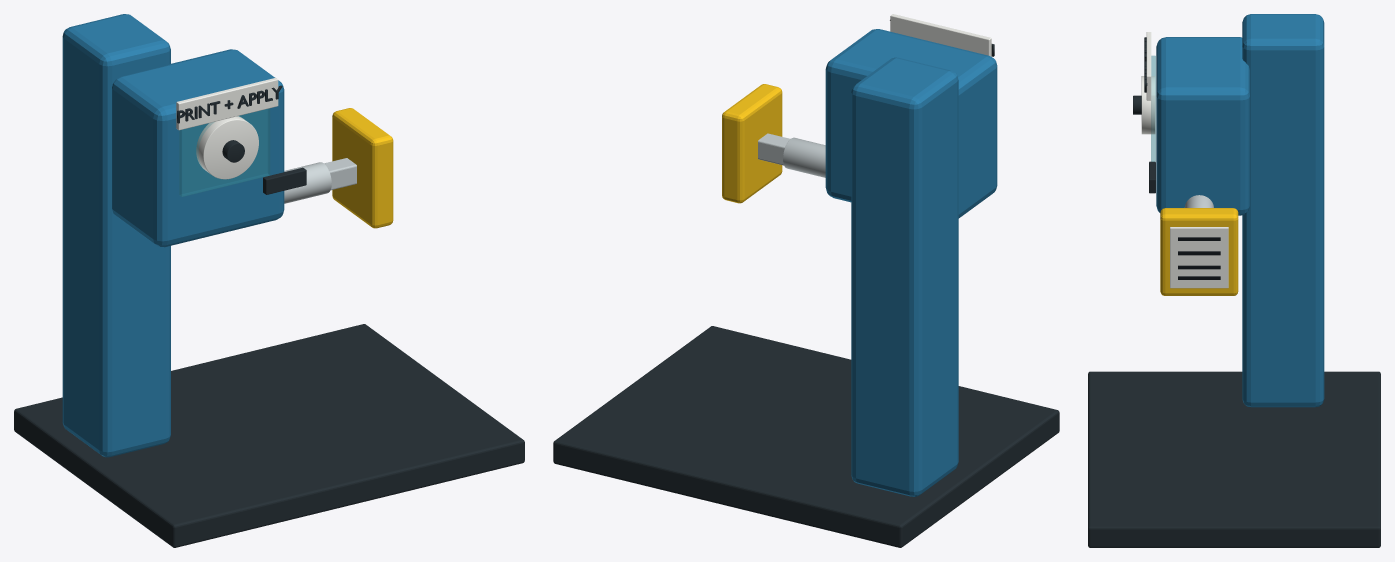
File: label_printer.glb
3 views of the same model, side by side, from view 1: azimuth 30°, elevation 25°; view 2: azimuth 150°, elevation 25°; view 3: azimuth 270°, elevation 25° (orthographic). The views are drawn at different scales.
Parts seen in each view (by area): view 1: LABELER_BASE, LABELER_PEDESTAL, PRINT_APPLY_ENCLOSURE, APPLICATOR_PAD, LABEL_ROLL_WINDOW, KIN_label_roll, LABELER_NAMEPLATE, TAMP_AIR_CYLINDER, LABEL_EXIT_SLOT, LABELER_NAME, TAMP_SLIDE; view 2: LABELER_BASE, LABELER_PEDESTAL, PRINT_APPLY_ENCLOSURE, APPLICATOR_PAD, LABELER_NAMEPLATE, TAMP_AIR_CYLINDER, TAMP_SLIDE; view 3: LABELER_BASE, LABELER_PEDESTAL, PRINT_APPLY_ENCLOSURE, APPLICATOR_PAD, LABEL_ON_TAMP, KIN_label_roll, LABEL_ROLL_WINDOW, LABELER_NAMEPLATE.
Boxes of the visible parts, box(x1,y1,x2,y2) form: LABELER_BASE: box(14, 324, 524, 547); LABELER_PEDESTAL: box(62, 14, 170, 457); PRINT_APPLY_ENCLOSURE: box(112, 49, 284, 247); APPLICATOR_PAD: box(332, 108, 393, 228); LABEL_ROLL_WINDOW: box(179, 108, 270, 196); KIN_label_roll: box(196, 116, 258, 179); LABELER_NAMEPLATE: box(176, 77, 278, 130); TAMP_AIR_CYLINDER: box(284, 162, 331, 203); LABEL_EXIT_SLOT: box(263, 167, 306, 194); LABELER_NAME: box(177, 85, 282, 123); TAMP_SLIDE: box(324, 158, 356, 190); LABELER_BASE: box(553, 326, 1059, 547); LABELER_PEDESTAL: box(851, 57, 958, 496); PRINT_APPLY_ENCLOSURE: box(825, 29, 997, 218); APPLICATOR_PAD: box(722, 84, 782, 203); LABELER_NAMEPLATE: box(890, 14, 991, 56); TAMP_AIR_CYLINDER: box(783, 137, 825, 177); TAMP_SLIDE: box(758, 133, 789, 165); LABELER_BASE: box(1088, 371, 1380, 547); LABELER_PEDESTAL: box(1242, 14, 1324, 407); PRINT_APPLY_ENCLOSURE: box(1156, 37, 1249, 215); APPLICATOR_PAD: box(1160, 208, 1238, 295); LABEL_ON_TAMP: box(1170, 227, 1228, 288); KIN_label_roll: box(1141, 76, 1155, 134); LABEL_ROLL_WINDOW: box(1151, 55, 1155, 161); LABELER_NAMEPLATE: box(1146, 32, 1151, 100).
Size of the model in its own units: 1.9 by 2.19 by 1.5.
